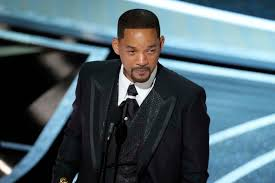s.black: (121, 55, 138, 69)
